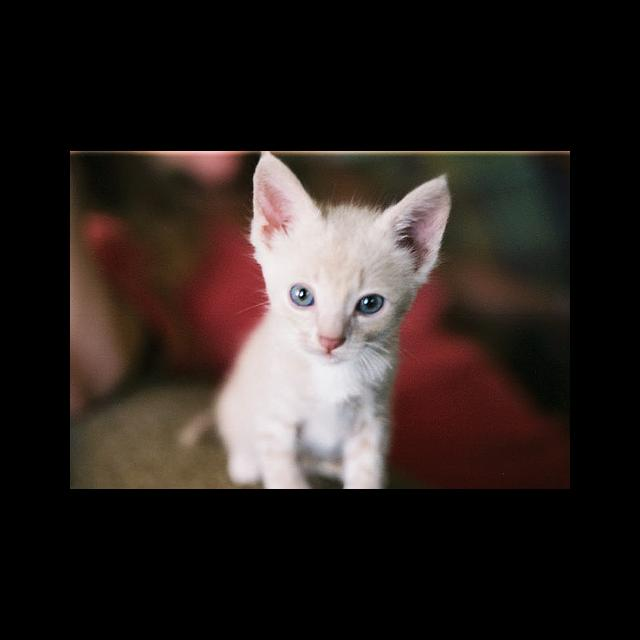animals: (258, 154, 446, 348)
